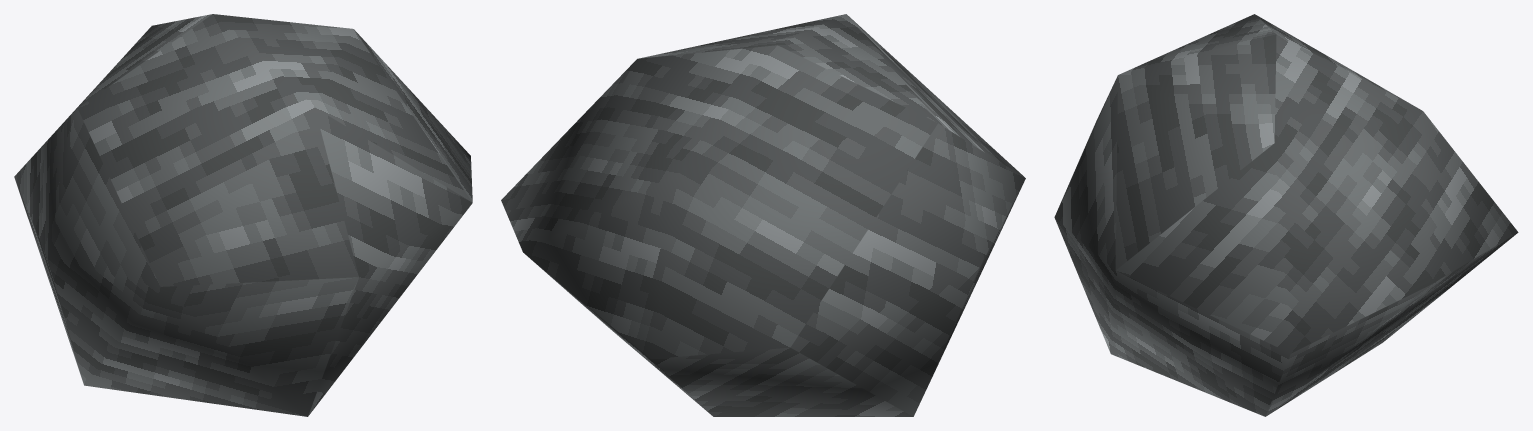
The model's file is testrock_1.glb.
3 renders of one model, left to right at view 1: azimuth 30°, elevation 25°; view 2: azimuth 150°, elevation 25°; view 3: azimuth 270°, elevation 25°, orthographic. The views are drawn at different scales.
Parts seen in each view (by area): view 1: Cube; view 2: Cube; view 3: Cube.
Boxes of the visible parts, x1,y1,x2,y2 form: Cube: (14, 14, 472, 416); Cube: (501, 14, 1025, 416); Cube: (1054, 14, 1518, 416).
Size of the model in its own units: 2.82 by 2.09 by 2.71.
1 material, 1 textured.
